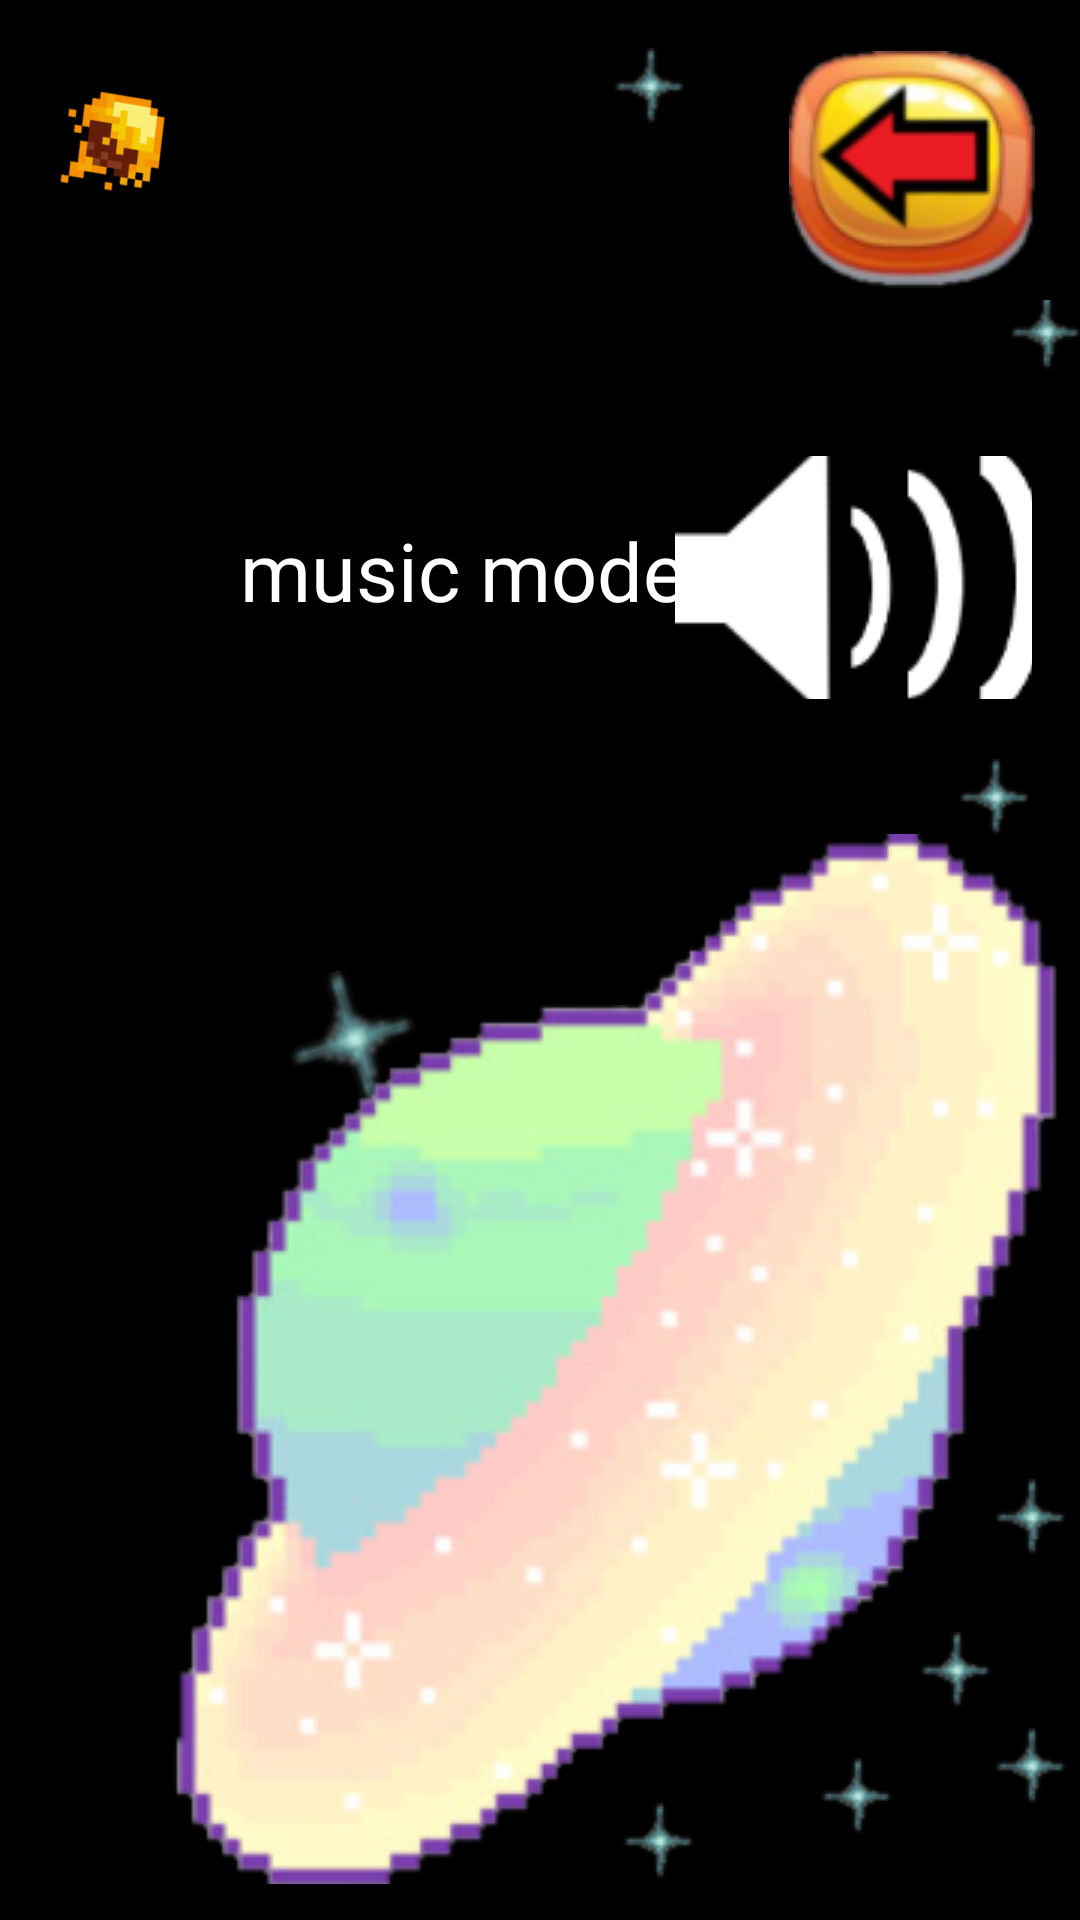

Screen size 1080w x 1920h. Icon name, then its center in pixels as point (x, y):
back: point (912, 168)
mus on: point (853, 577)
